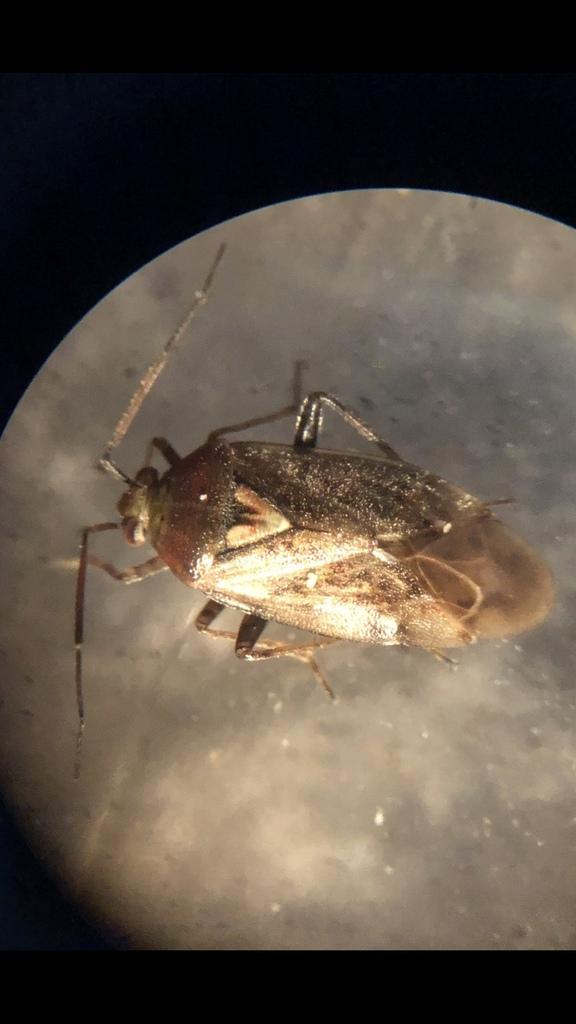plant_bugs: (0, 178, 576, 797)
